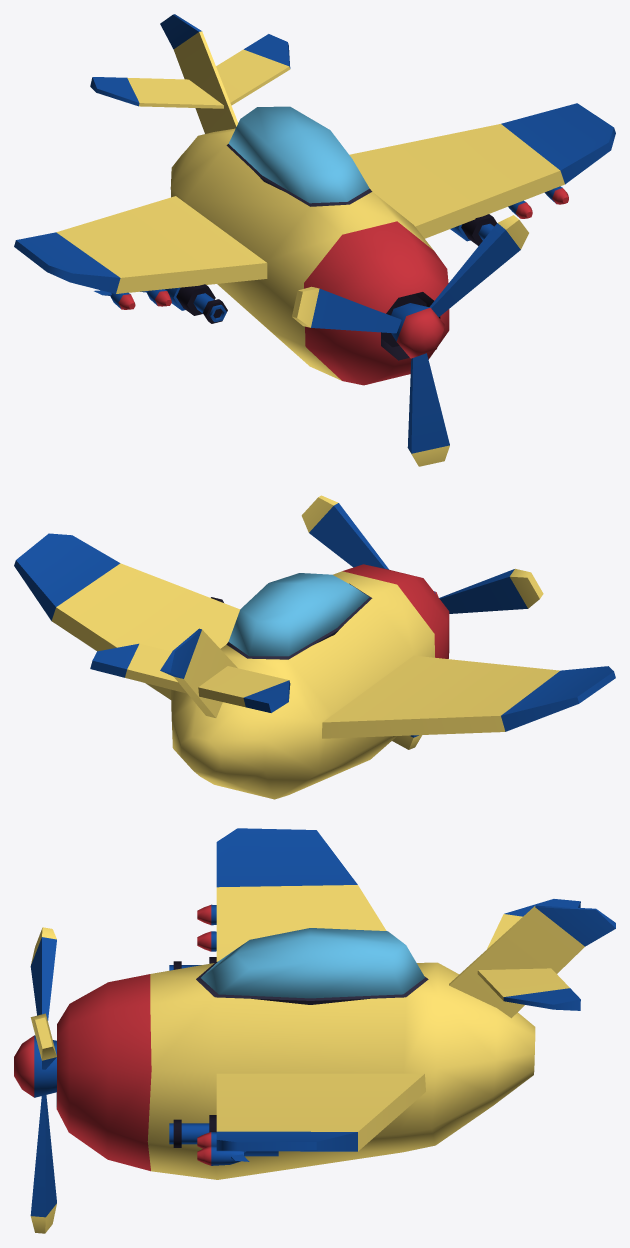
The model's file is low_poly_toon_plane.glb.
3 renders of one model, top to bottom at view 1: azimuth 30°, elevation 25°; view 2: azimuth 150°, elevation 25°; view 3: azimuth 270°, elevation 25°, orthographic. The views are drawn at different scales.
Visible parts, largest first — view 1: PlaneBody, Propeller, Cockpit; view 2: PlaneBody, Cockpit, Propeller; view 3: PlaneBody, Cockpit, Propeller, Missile1.
Boxes of the visible parts, bbox=[...] form: PlaneBody: bbox=[14, 14, 615, 385]; Propeller: bbox=[292, 215, 528, 466]; Cockpit: bbox=[228, 106, 369, 203]; PlaneBody: bbox=[14, 533, 615, 799]; Cockpit: bbox=[228, 573, 369, 656]; Propeller: bbox=[301, 495, 543, 749]; PlaneBody: bbox=[56, 828, 615, 1179]; Cockpit: bbox=[201, 928, 424, 998]; Propeller: bbox=[14, 927, 56, 1233]; Missile1: bbox=[197, 1146, 249, 1165].
Bounding box in the file's own units: 5.95 × 2.77 × 4.79.
2 materials, 2 textured.
